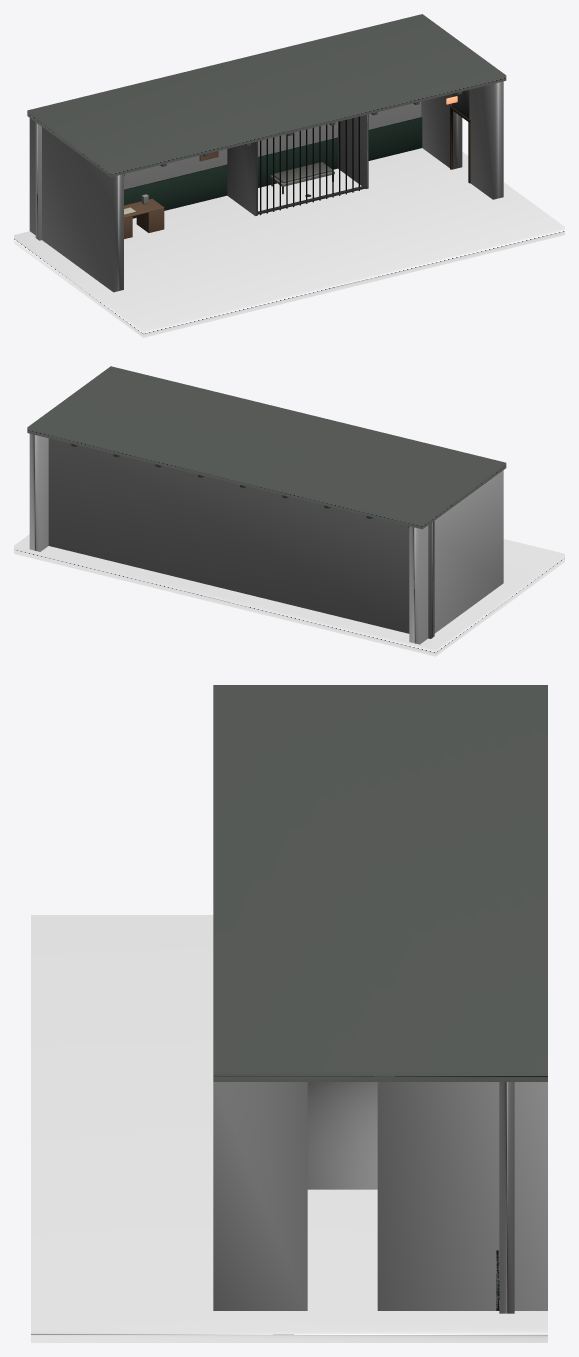
File: cell.glb
3 renders of one model, top to bottom at view 1: azimuth 30°, elevation 25°; view 2: azimuth 150°, elevation 25°; view 3: azimuth 270°, elevation 25°, orthographic. The views are drawn at different scales.
Parts seen in each view (by area): view 1: Floor, Ceiling, Wall • left, Wainscot, Wall • back, Wall • right b, Wall • right a, Cell wall l, Cell wall r, Cot blanket, Desk pedestal.001, Cell rail low (+1 smaller); view 2: Wall • back, Ceiling, Floor, Wall • left, Wall • right a; view 3: Ceiling, Floor, Wall • right a, Wall • right b, Wall • over door, Wall • back.
Boxes of the visible parts, x1=… form: Floor: x1=14, y1=148, x2=564, y2=337; Ceiling: x1=27, y1=14, x2=506, y2=176; Wall • left: x1=29, y1=118, x2=123, y2=292; Wainscot: x1=124, y1=117, x2=422, y2=218; Wall • back: x1=35, y1=101, x2=421, y2=240; Wall • right b: x1=469, y1=81, x2=503, y2=199; Wall • right a: x1=421, y1=94, x2=462, y2=169; Cell wall l: x1=227, y1=141, x2=257, y2=215; Cell wall r: x1=338, y1=114, x2=368, y2=188; Cot blanket: x1=272, y1=162, x2=332, y2=182; Desk pedestal.001: x1=136, y1=209, x2=164, y2=232; Cell rail low: x1=258, y1=185, x2=366, y2=214; Wall • back: x1=48, y1=438, x2=434, y2=638; Ceiling: x1=27, y1=366, x2=506, y2=529; Floor: x1=14, y1=534, x2=564, y2=656; Wall • left: x1=409, y1=470, x2=503, y2=644; Wall • right a: x1=29, y1=433, x2=48, y2=551; Ceiling: x1=213, y1=685, x2=547, y2=1081; Floor: x1=31, y1=915, x2=547, y2=1342; Wall • right a: x1=377, y1=1082, x2=547, y2=1310; Wall • right b: x1=213, y1=1082, x2=307, y2=1310; Wall • over door: x1=307, y1=1082, x2=377, y2=1189; Wall • back: x1=499, y1=1082, x2=514, y2=1313.
Bounding box in the file's own units: 32 × 9.4 × 17.
